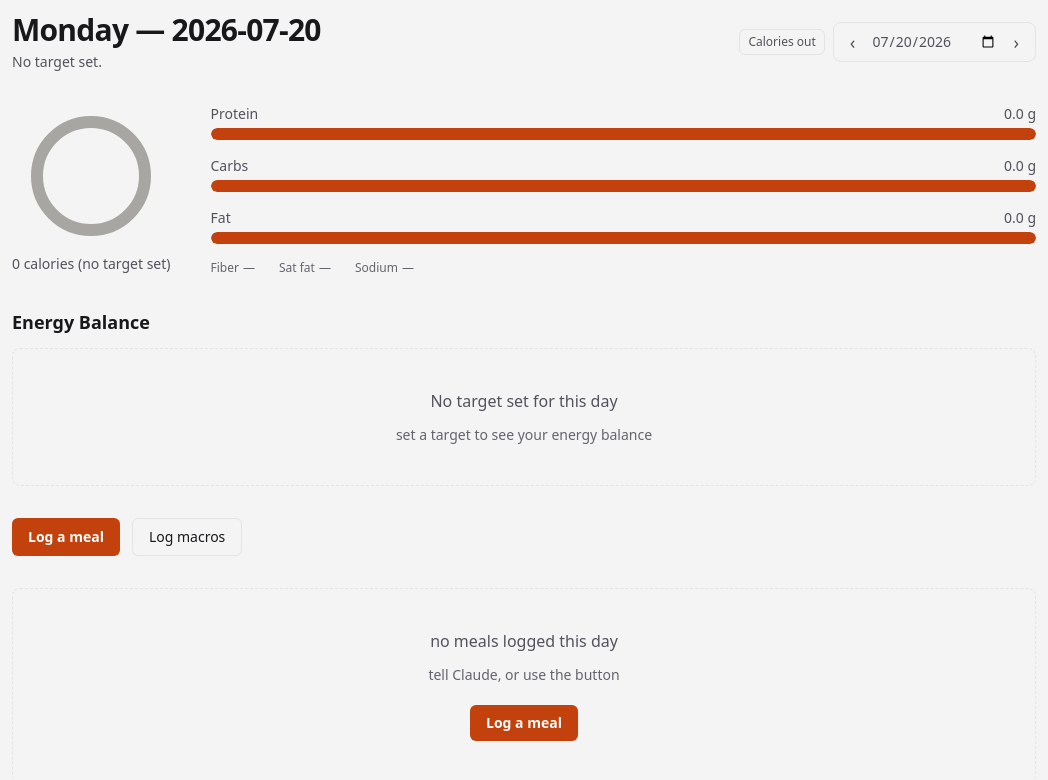
Test: DayView › date picker › steps to the next day and navigates to /day/:date
This screenshot has width=1048, height=780.
expect the heading "Monday — 2026-07-20" is shown: met, box [12,12,321,48]
What coordinates should you click on to do the following:
click the button named "next day"
I would click on:
 (1016, 42)
Its box is [1005,29,1027,55].
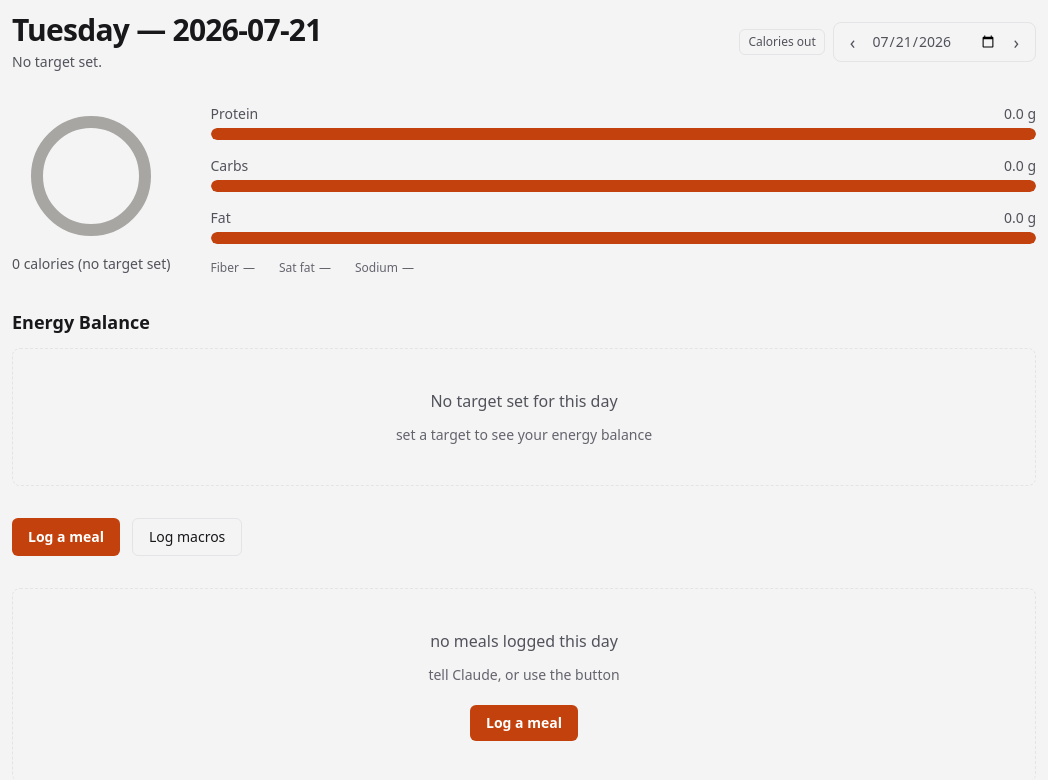
expect the heading "Tuesday — 2026-07-21" is shown: met, box [12,12,322,48]
